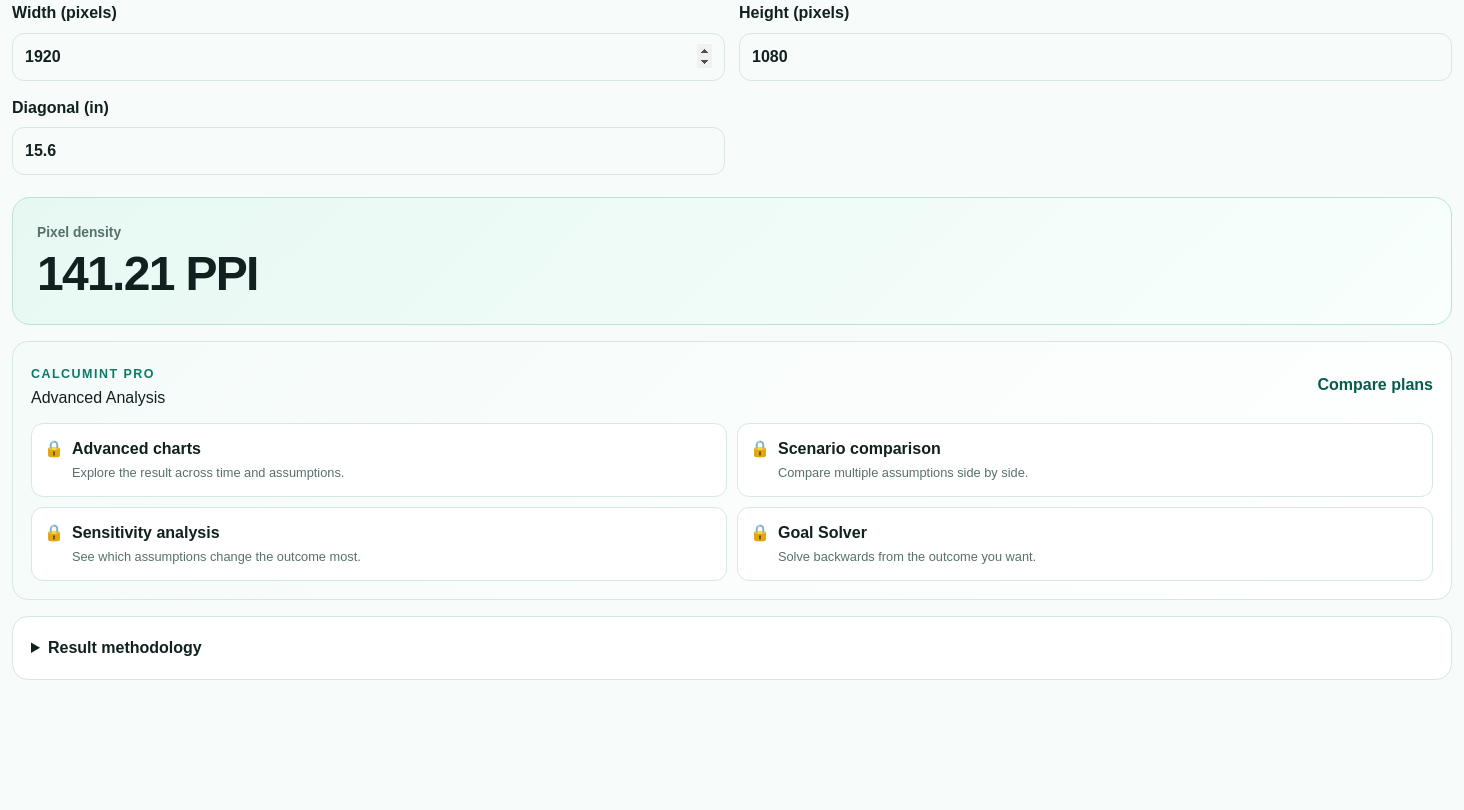
Scenario: Technology batch 1 UI validation › announces a zero physical diagonal for PPI
The width and height of the screenshot is (1464, 810).
Replace the text in the number field labelled "Diagonal (in)" with "0": (368, 151) [12,127,725,175]
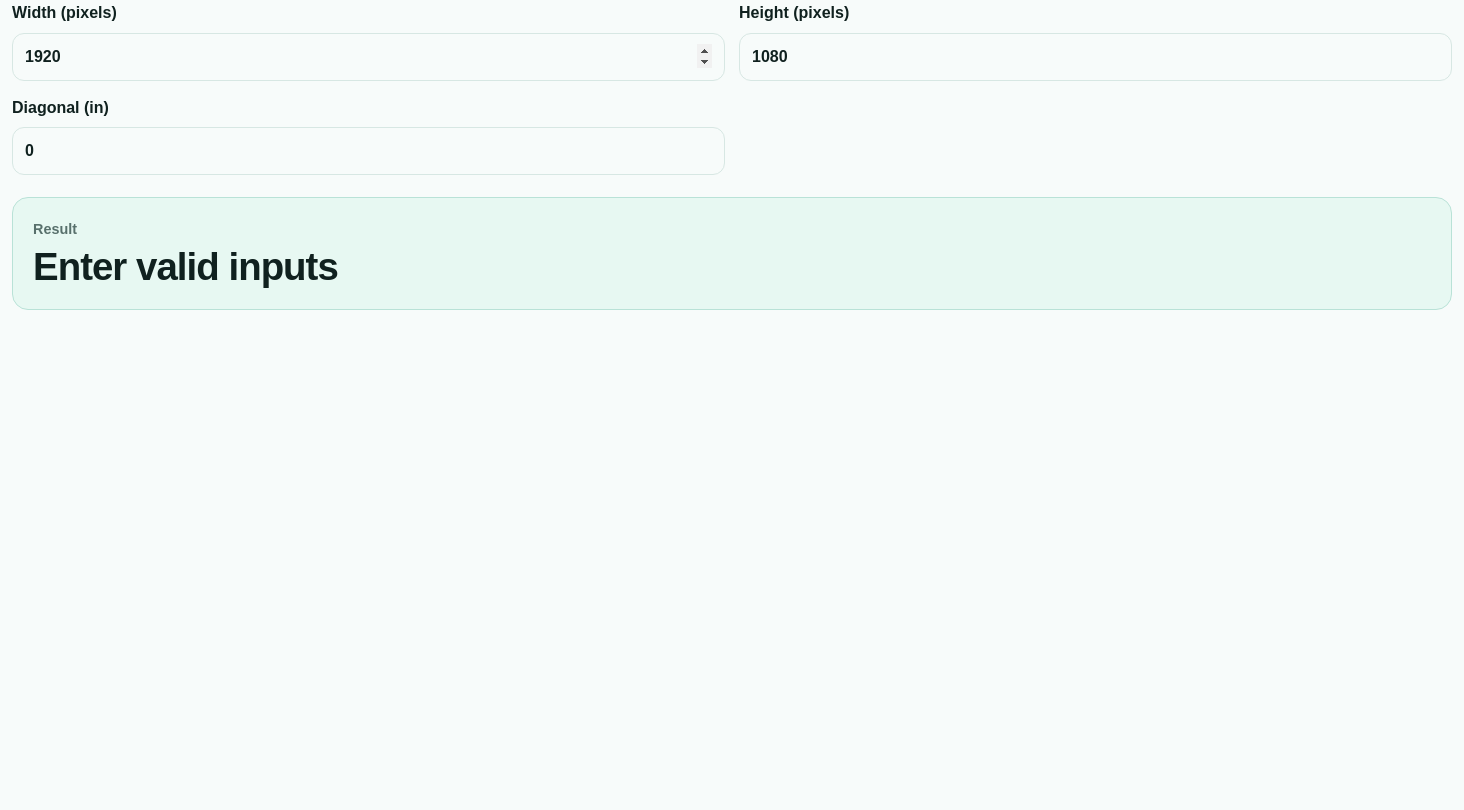
Now the message shows "Enter valid inputs", box [33,245,338,288]
